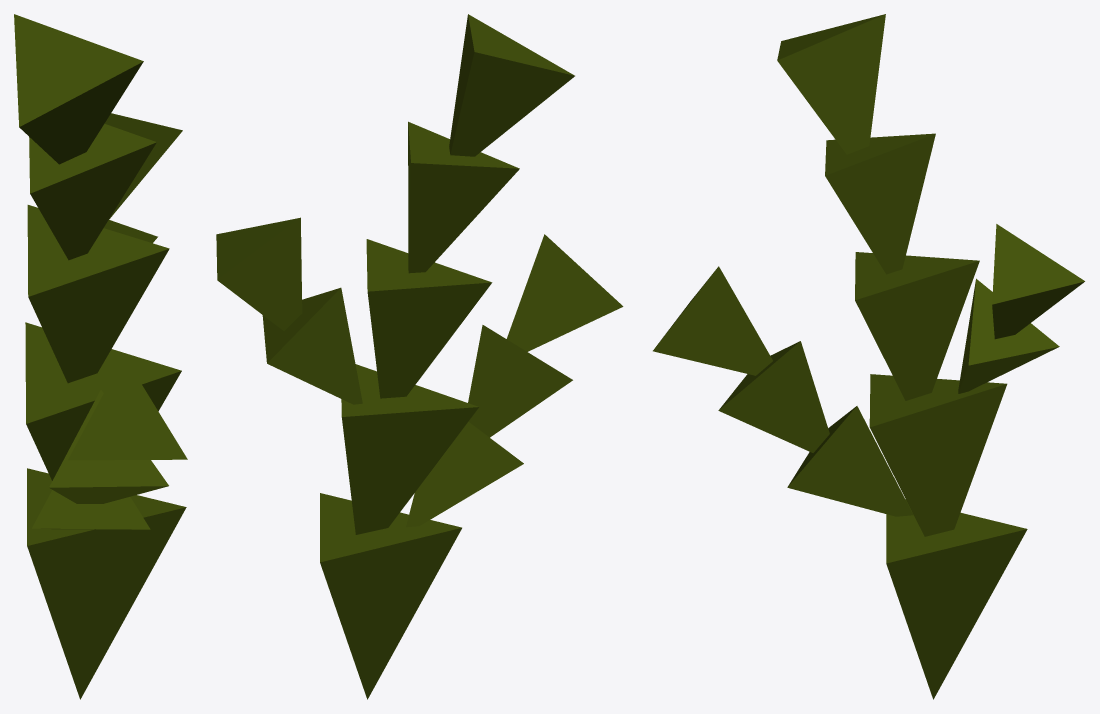
File: Seaweed1.fbx
The picture shows the model from 3 angles, left to right: view 1: azimuth 30°, elevation 25°; view 2: azimuth 150°, elevation 25°; view 3: azimuth 270°, elevation 25°; orthographic projection. The views are drawn at different scales.
Visible parts, largest first — view 1: Seaweed1; view 2: Seaweed1; view 3: Seaweed1.
Boxes of the visible parts, <box> form: Seaweed1: <box>14,14,187,699</box>; Seaweed1: <box>216,14,623,699</box>; Seaweed1: <box>653,14,1084,699</box>.
Size of the model in its own units: 22.47 by 54.75 by 33.28.
